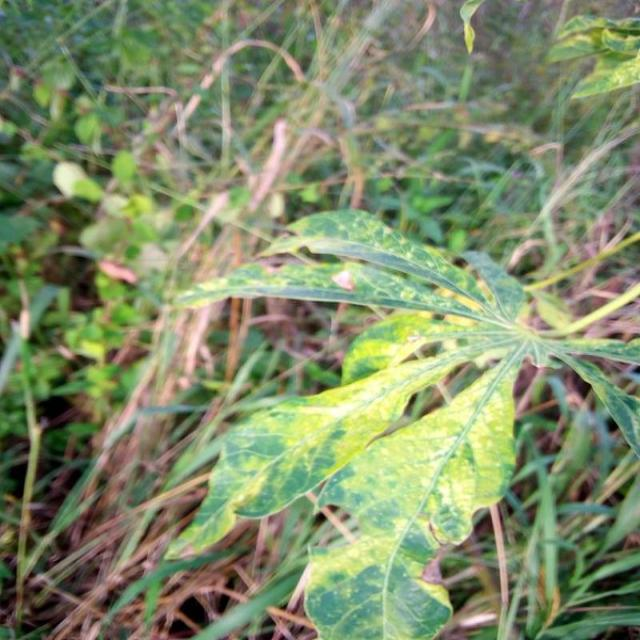Mosaico: (213, 188, 560, 593)
Mosca: (324, 262, 363, 301)
